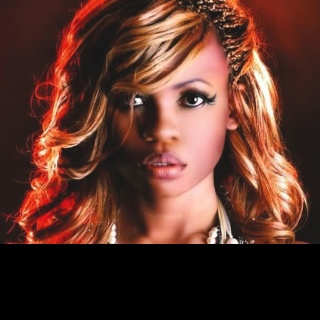without_mask: (108, 39, 228, 197)
